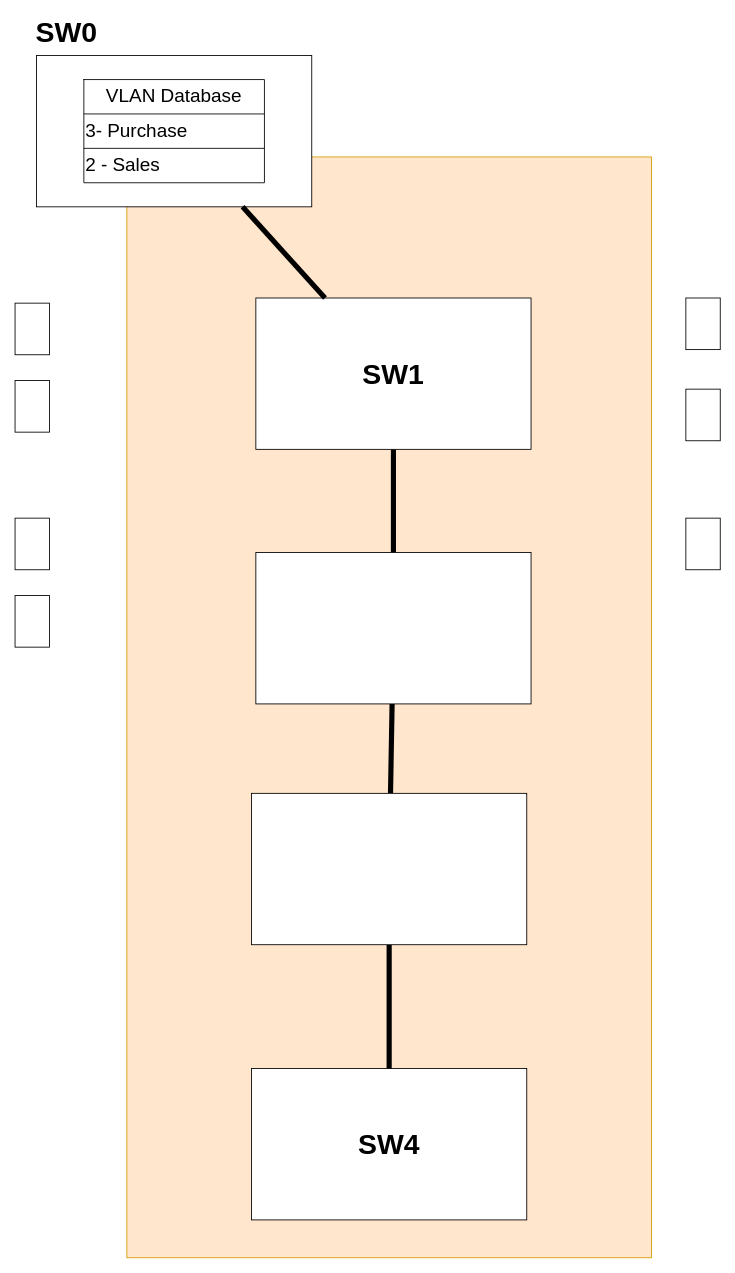
The diagram is 735 pixels wide and 1273 high, and some of its shapes have lost their labels. Here are the shapes that lost their labels. From the top down, the centre of each, then its label:
At point 393,628: "SW2".
At point 389,868: "SW3".
